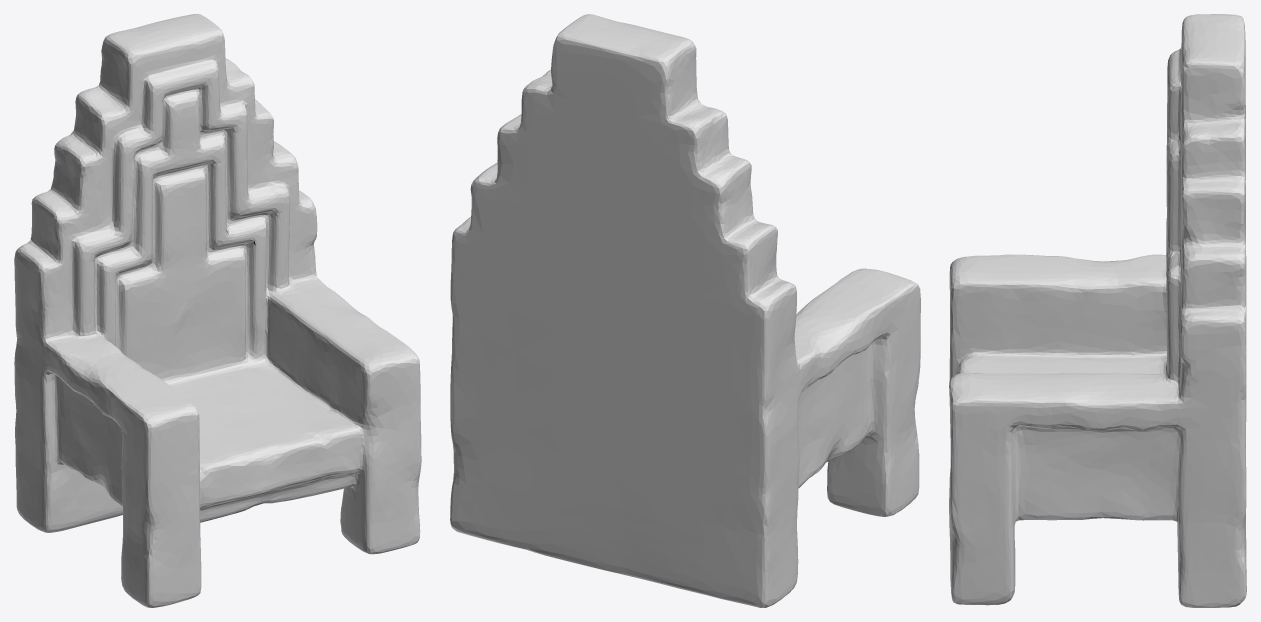
The model's file is orn_throne01.glb.
The picture shows the model from 3 angles, left to right: view 1: azimuth 30°, elevation 25°; view 2: azimuth 150°, elevation 25°; view 3: azimuth 270°, elevation 25°; orthographic projection. The views are drawn at different scales.
Parts seen in each view (by area): view 1: Low; view 2: Low; view 3: Low.
Part boxes in pixels (x1,y1,x2,y2): Low: (14, 14, 421, 607); Low: (450, 14, 920, 607); Low: (949, 14, 1246, 607).
Size of the model in its own units: 1.25 by 1.99 by 1.07.
Materials: 1 (1 with a texture image).
